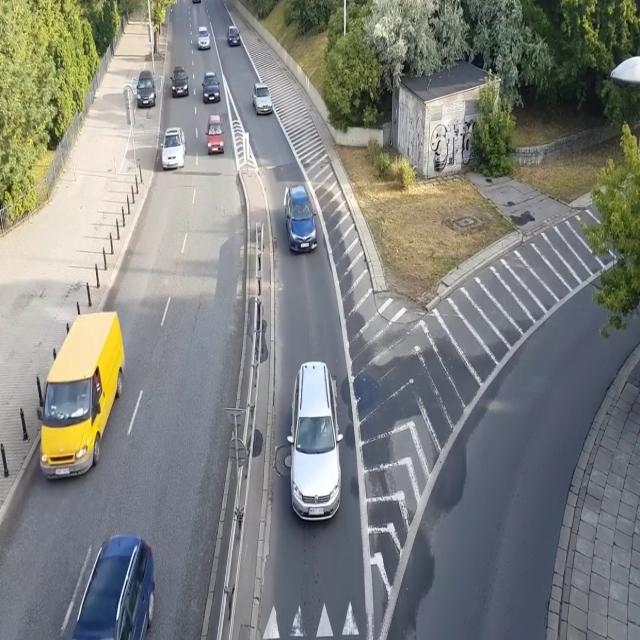car: (284, 357, 347, 522), (68, 531, 155, 640), (281, 180, 321, 256), (159, 125, 188, 172), (135, 68, 156, 109), (206, 112, 225, 155), (251, 83, 274, 116), (201, 68, 220, 104), (170, 66, 189, 100), (196, 26, 211, 50), (228, 25, 242, 46), (190, 0, 202, 5)
van: (36, 309, 127, 481)
